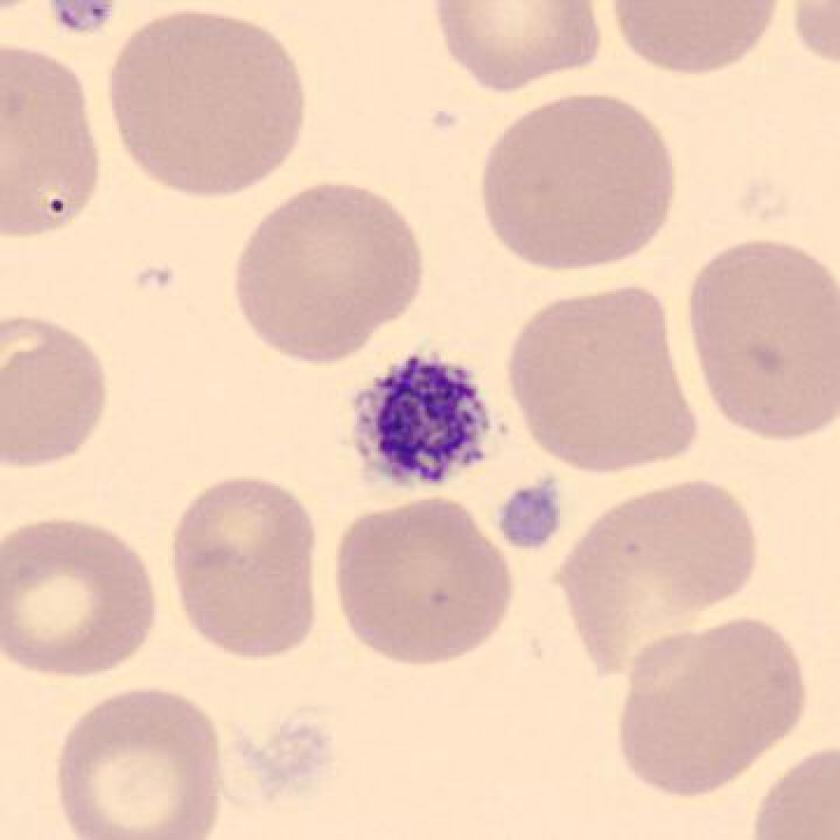platelets: (339, 341, 510, 501)
